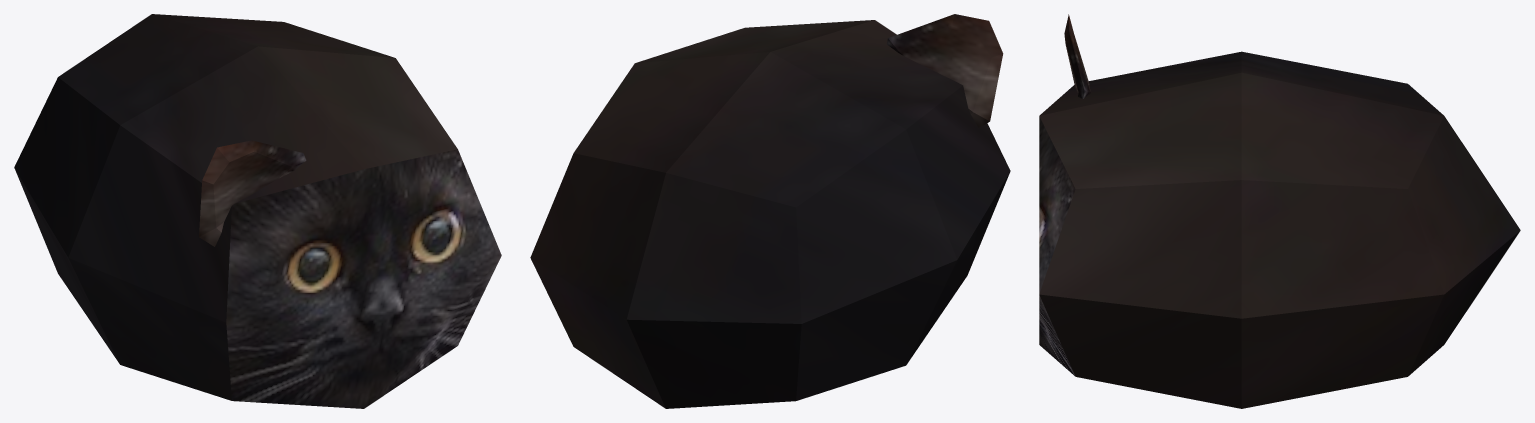
File: gato_pao.glb
The picture shows the model from 3 angles, left to right: view 1: azimuth 30°, elevation 25°; view 2: azimuth 150°, elevation 25°; view 3: azimuth 270°, elevation 25°; orthographic projection. The views are drawn at different scales.
Visible parts, largest first — view 1: Cube, Cube.001; view 2: Cube, Cube.001; view 3: Cube, Cube.001.
Boxes of the visible parts, <box> form: Cube: <box>14,14,501,408</box>; Cube.001: <box>199,140,306,246</box>; Cube: <box>530,20,1010,408</box>; Cube.001: <box>887,14,1003,127</box>; Cube: <box>1039,51,1520,408</box>; Cube.001: <box>1064,14,1090,98</box>.
Bounding box in the file's own units: 1.26 × 1.05 × 1.45.
2 materials, 2 textured.
